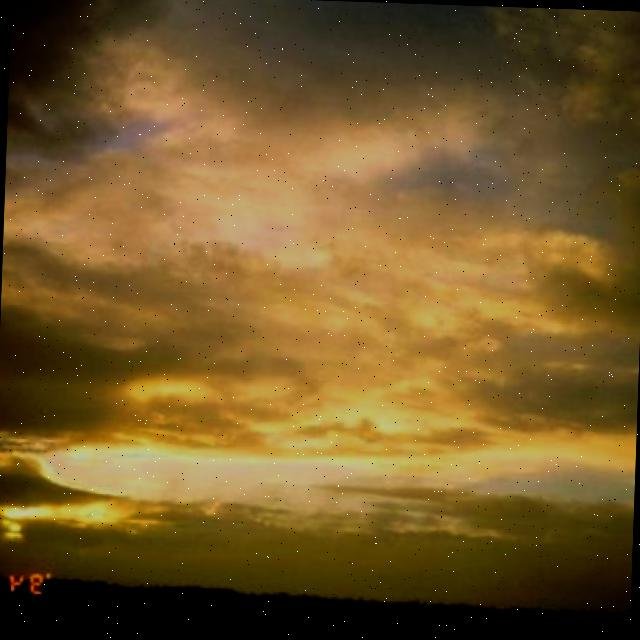Ns: (1, 3, 640, 528)
